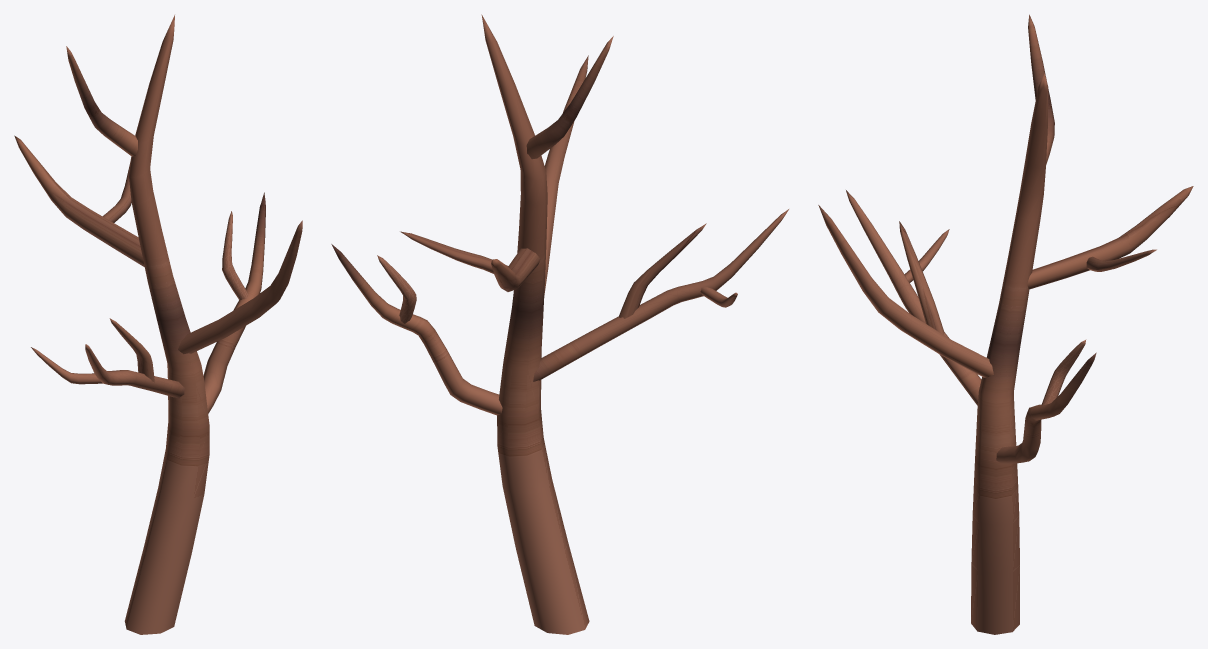
Rendered from dead_usn_deadtree_5.glb.
3 views of the same model, side by side, from view 1: azimuth 30°, elevation 25°; view 2: azimuth 150°, elevation 25°; view 3: azimuth 270°, elevation 25° (orthographic). The views are drawn at different scales.
Parts seen in each view (by area): view 1: DeadTree_5; view 2: DeadTree_5; view 3: DeadTree_5.
Boxes of the visible parts, x1,y1,x2,y2 form: DeadTree_5: [14, 15, 302, 634]; DeadTree_5: [331, 14, 788, 634]; DeadTree_5: [818, 14, 1193, 634].
Size of the model in its own units: 3.32 by 6 by 3.53.
Materials: 1 (1 with a texture image).
